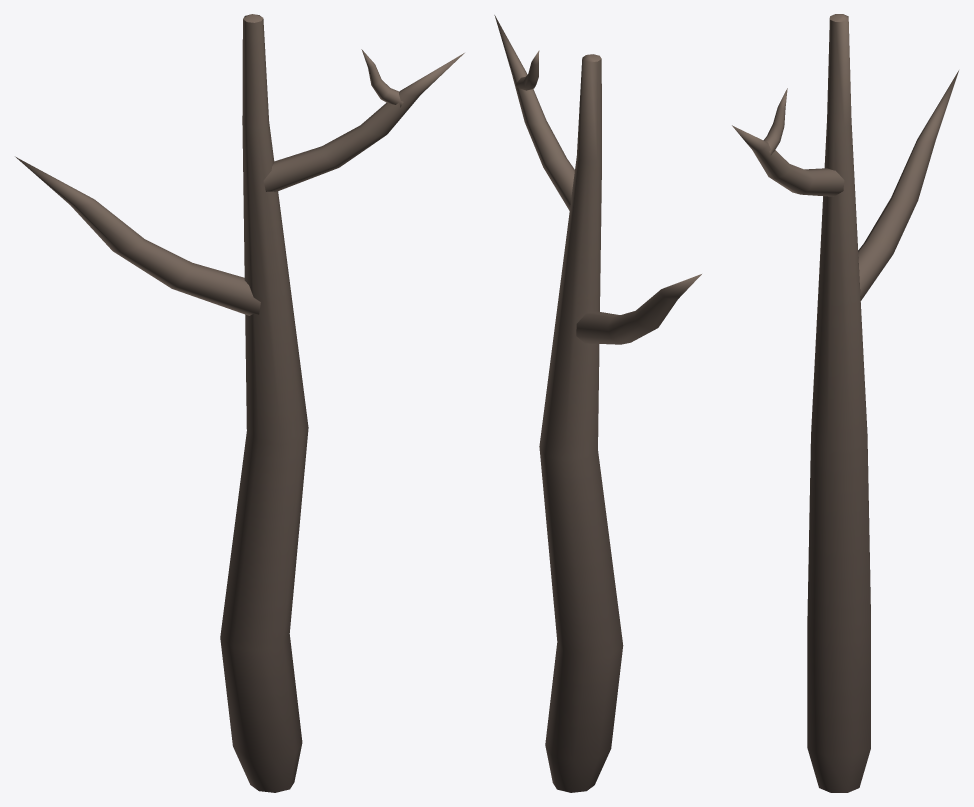
Rendered from tree_dead_large.glb.
3 renders of one model, left to right at view 1: azimuth 30°, elevation 25°; view 2: azimuth 150°, elevation 25°; view 3: azimuth 270°, elevation 25°, orthographic. The views are drawn at different scales.
Visible parts, largest first — view 1: tree_dead_large; view 2: tree_dead_large; view 3: tree_dead_large.
Boxes of the visible parts, x1,y1,x2,y2 form: tree_dead_large: [15, 14, 464, 792]; tree_dead_large: [494, 15, 701, 792]; tree_dead_large: [732, 14, 958, 792].
Size of the model in its own units: 2.3 by 5.07 by 1.38.
1 material, 1 textured.
